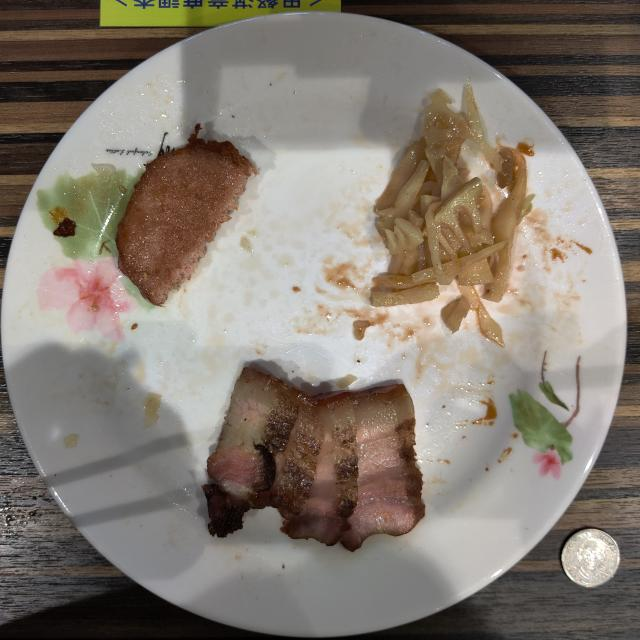Spam: (116, 124, 258, 305)
coin: (561, 529, 620, 588)
red grilled pork: (202, 368, 425, 550)
